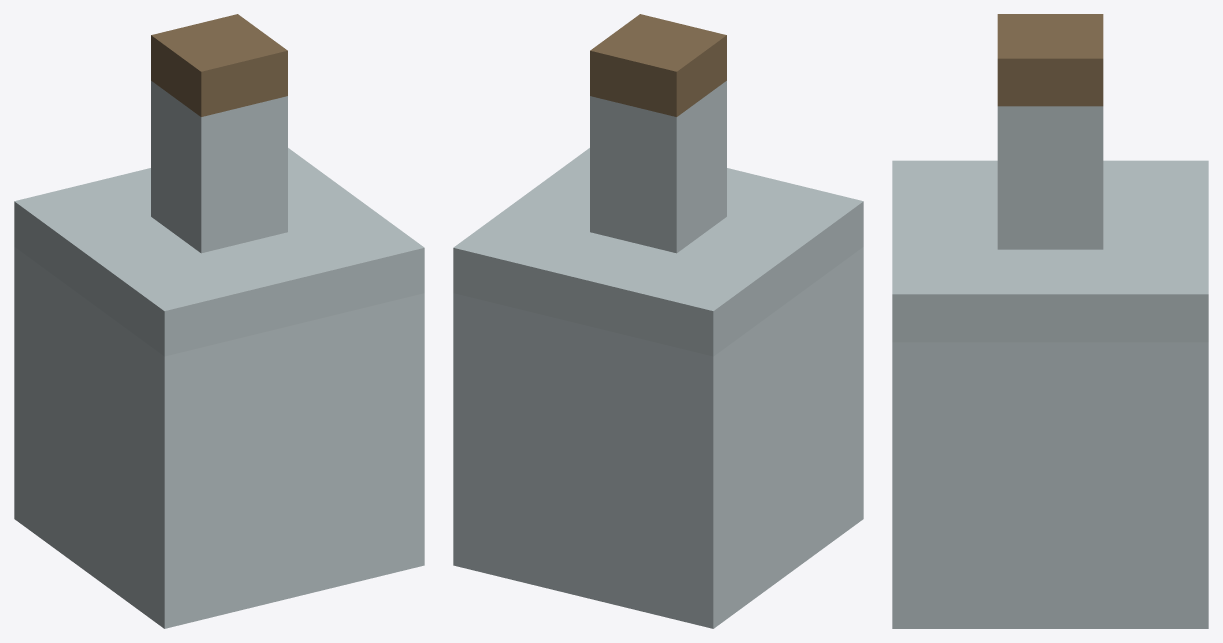
The model's file is frasco_pocion_grande_01.glb.
3 views of the same model, side by side, from view 1: azimuth 30°, elevation 25°; view 2: azimuth 150°, elevation 25°; view 3: azimuth 270°, elevation 25° (orthographic). The views are drawn at different scales.
Visible parts, largest first — view 1: frasco_pocion_grande; view 2: frasco_pocion_grande; view 3: frasco_pocion_grande.
Boxes of the visible parts, left/top/right/bottom form: frasco_pocion_grande: left=14, top=14, right=424, bottom=628; frasco_pocion_grande: left=453, top=14, right=863, bottom=628; frasco_pocion_grande: left=892, top=14, right=1208, bottom=628.
Size of the model in its own units: 0.5 by 0.9167 by 0.5.
